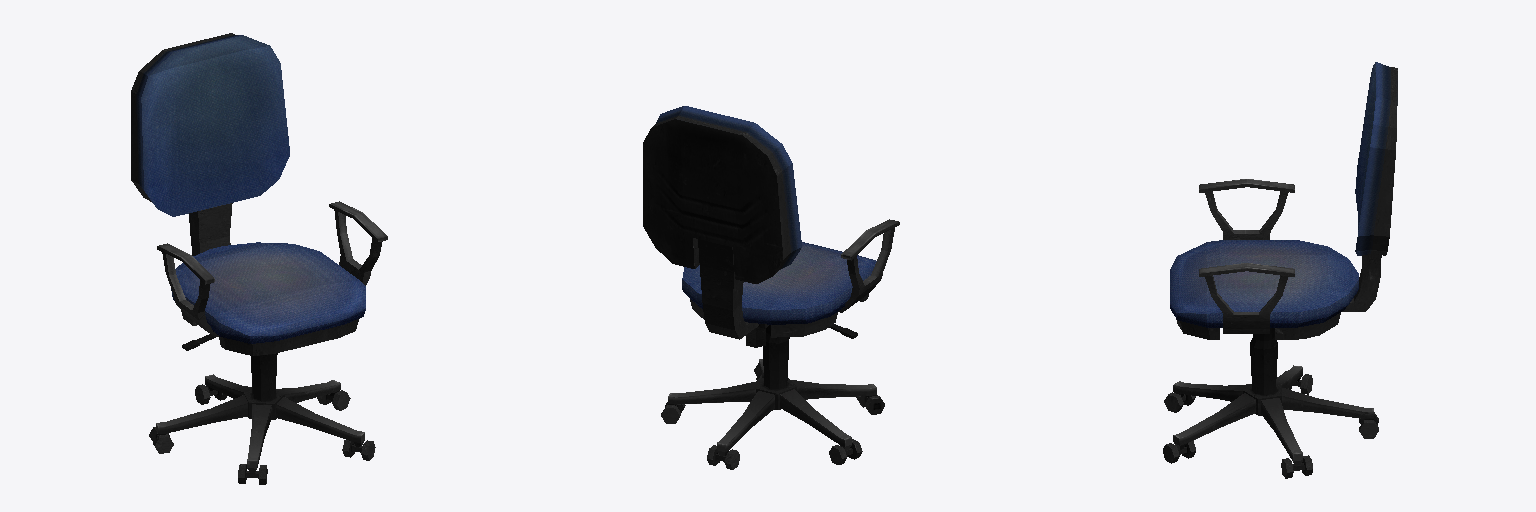
3 views of the same model, side by side, from view 1: azimuth 30°, elevation 25°; view 2: azimuth 150°, elevation 25°; view 3: azimuth 270°, elevation 25° (orthographic).
Visible parts, largest first — view 1: yizi; view 2: yizi; view 3: yizi.
Part boxes in pixels (bbox=[...]): yizi: bbox=[131, 33, 387, 484]; yizi: bbox=[643, 106, 899, 469]; yizi: bbox=[1163, 62, 1397, 478].
Size of the model in its own units: 1.07 by 1.85 by 1.11.
Materials: 1 (1 with a texture image).